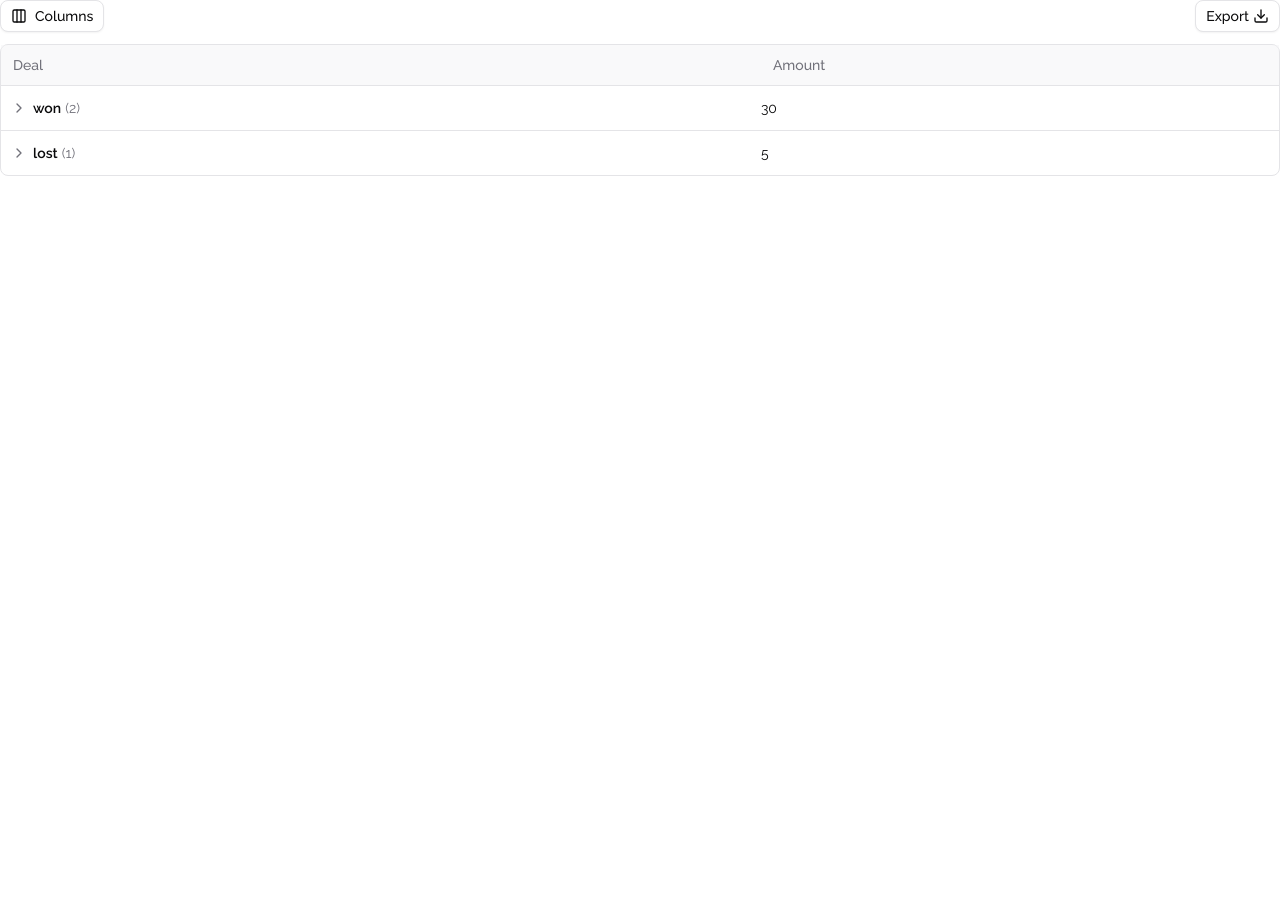
Scenario: grouping › omits the grouped Stage column from the Columns menu (its visibility toggle would be dead)
Click the button "Columns". click: coordinates (52, 16)
box: [0,0,104,32]
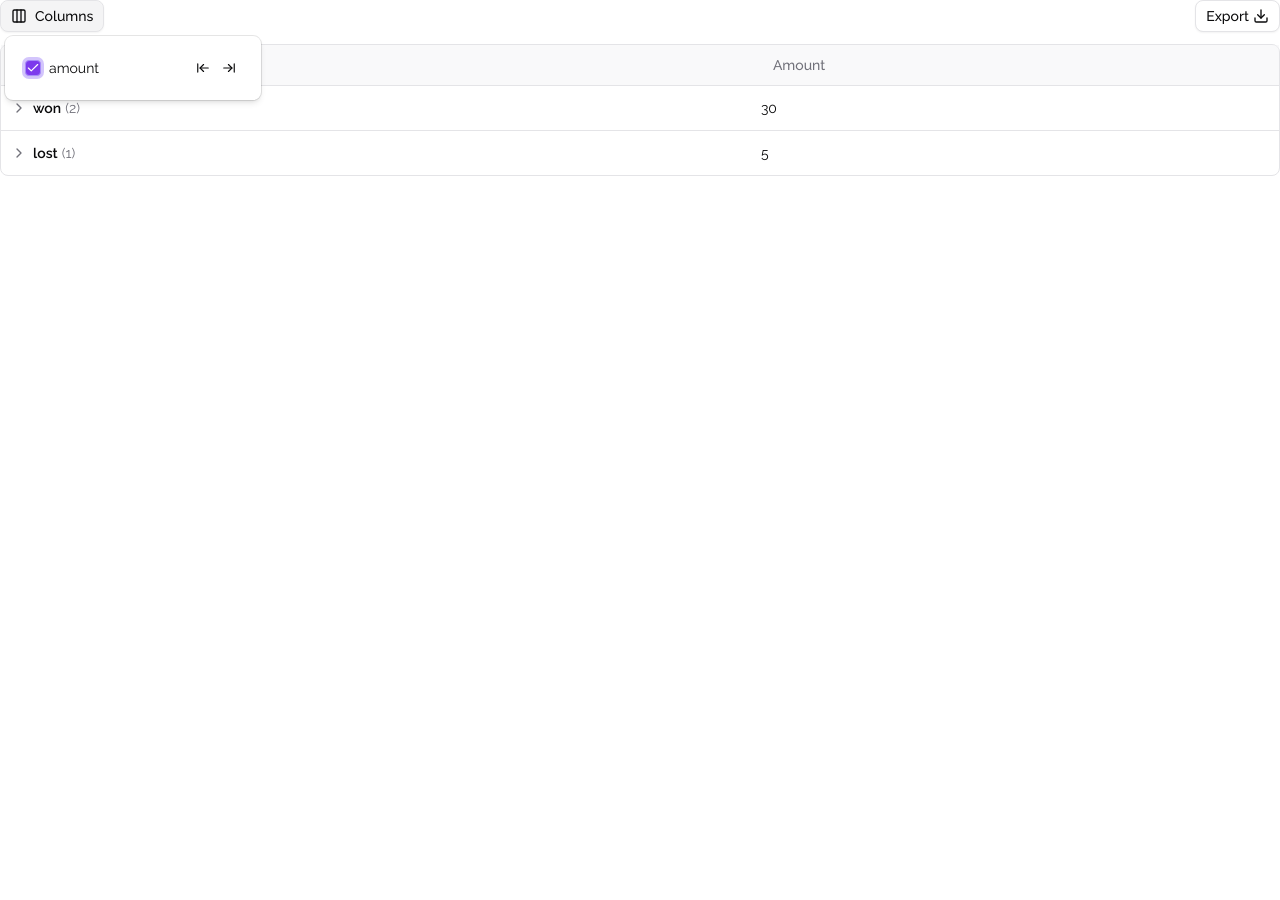
Result: the text "amount" is shown at [49,60,99,76]
